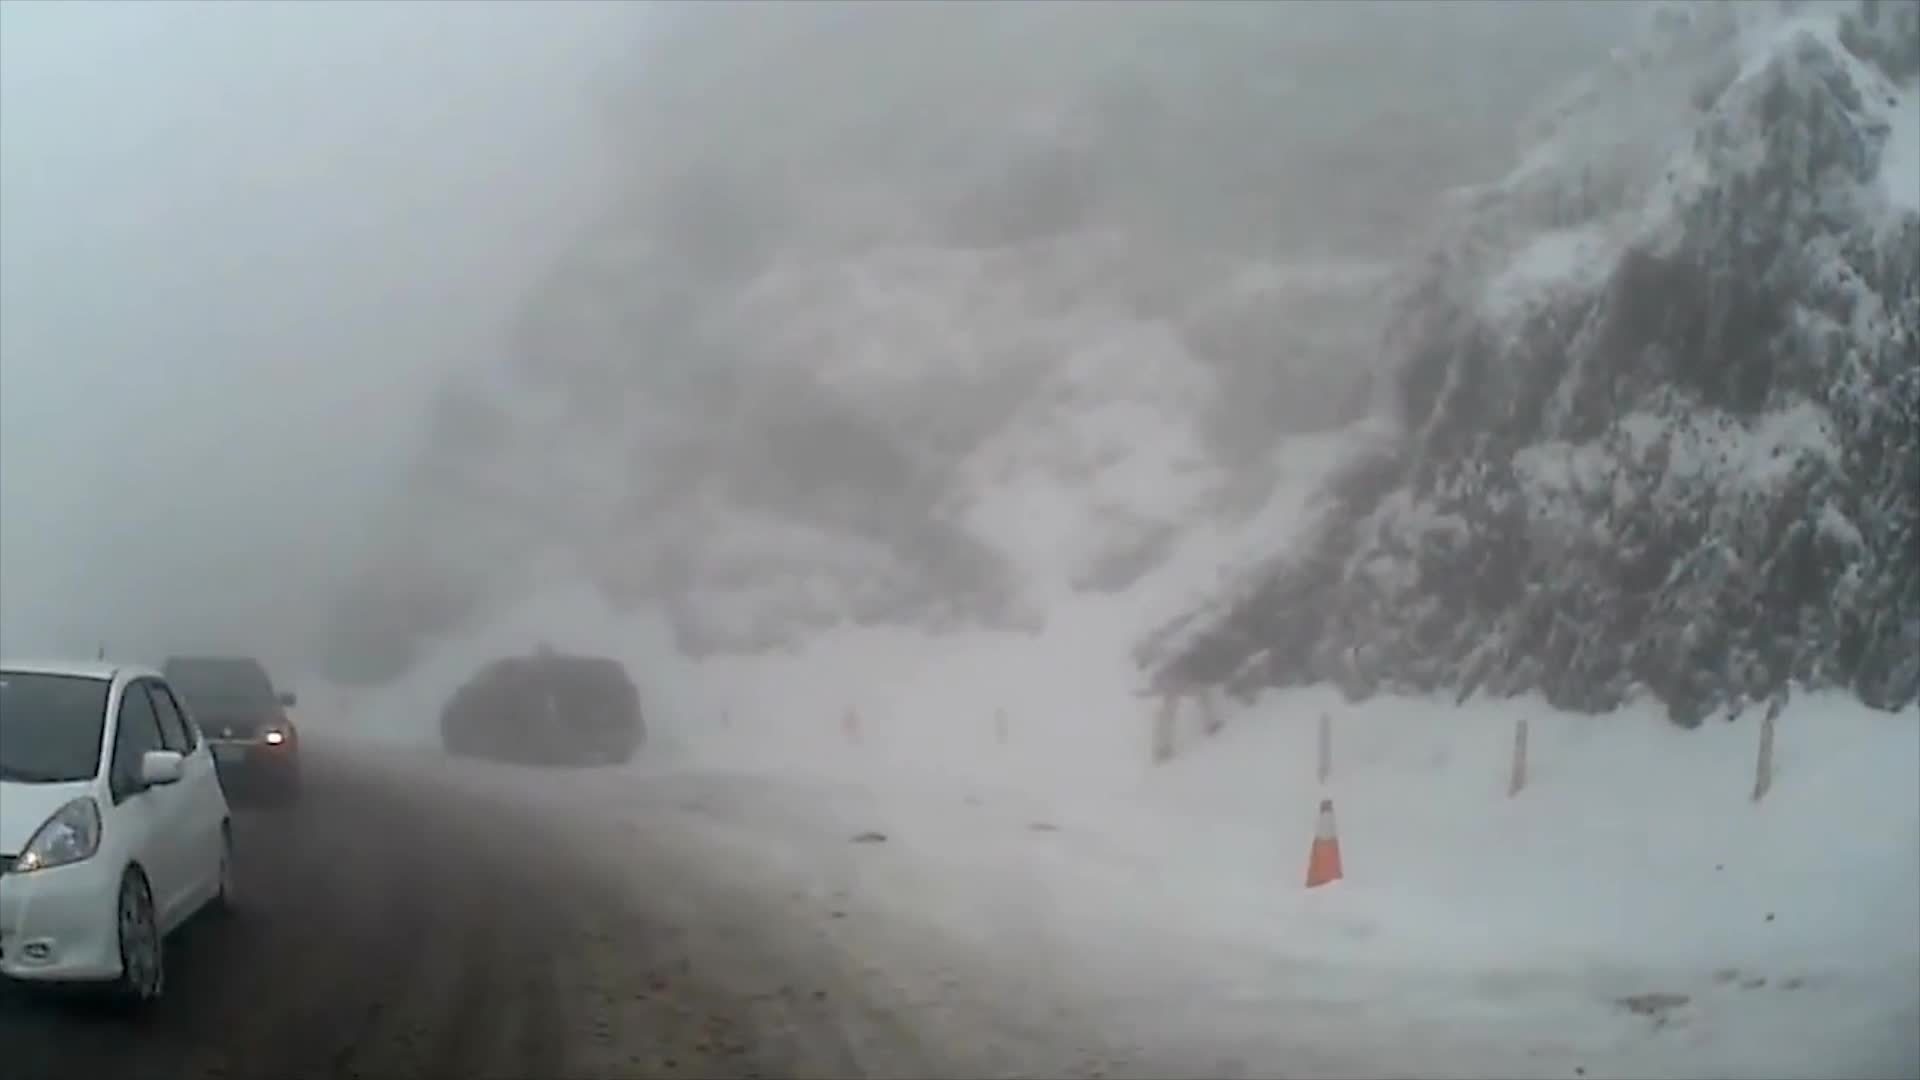vehicle: (0, 653, 244, 1010), (128, 647, 302, 807), (439, 651, 644, 766)
